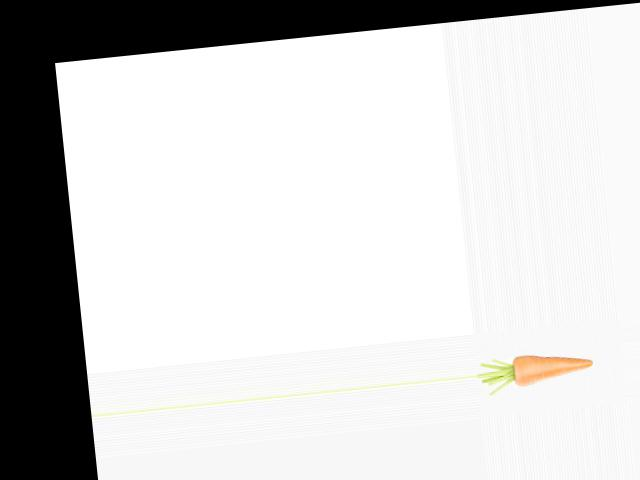carrot: (505, 346, 597, 392)
